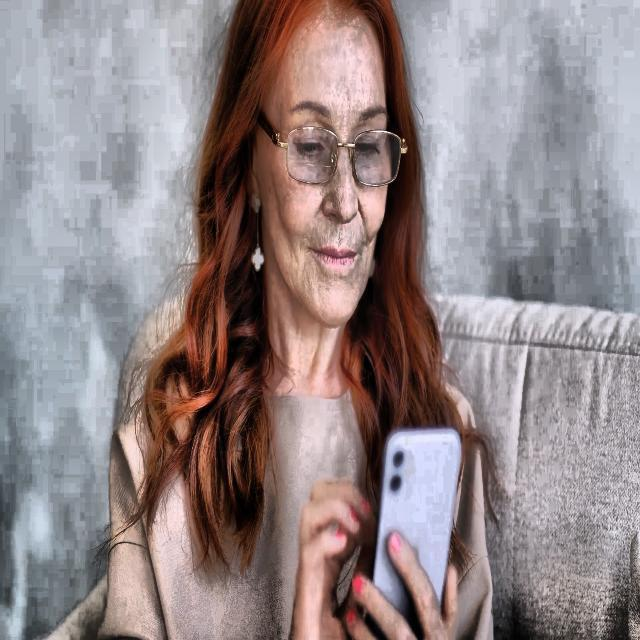Phone: (363, 423, 464, 640)
